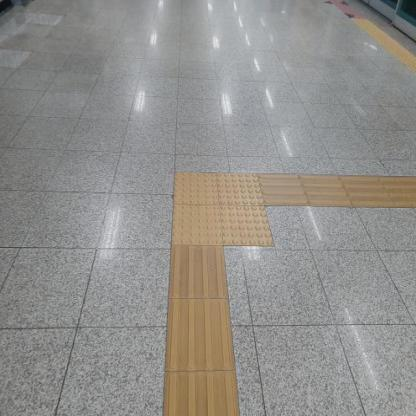podotacti: (131, 131, 306, 292), (163, 247, 237, 416), (258, 174, 415, 212)
